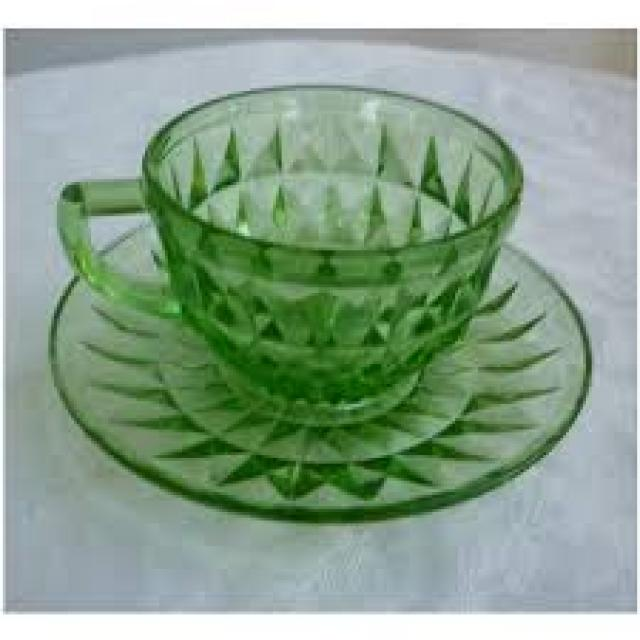Glass-Non-Biodegradable but Recyclable-: (52, 85, 524, 376), (70, 247, 586, 507)
